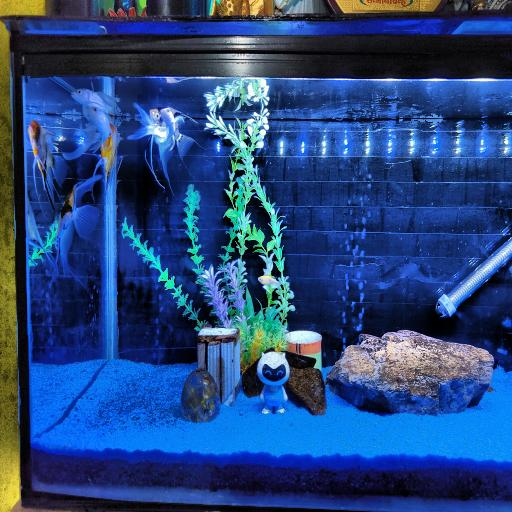Fish: (128, 104, 196, 186), (56, 175, 101, 273), (63, 89, 116, 159), (28, 121, 66, 208), (63, 107, 113, 159), (160, 108, 196, 161), (26, 202, 55, 266), (94, 124, 121, 183), (72, 89, 116, 114), (84, 107, 112, 142), (150, 109, 162, 125), (258, 276, 278, 285), (163, 77, 192, 83), (488, 387, 495, 392)
